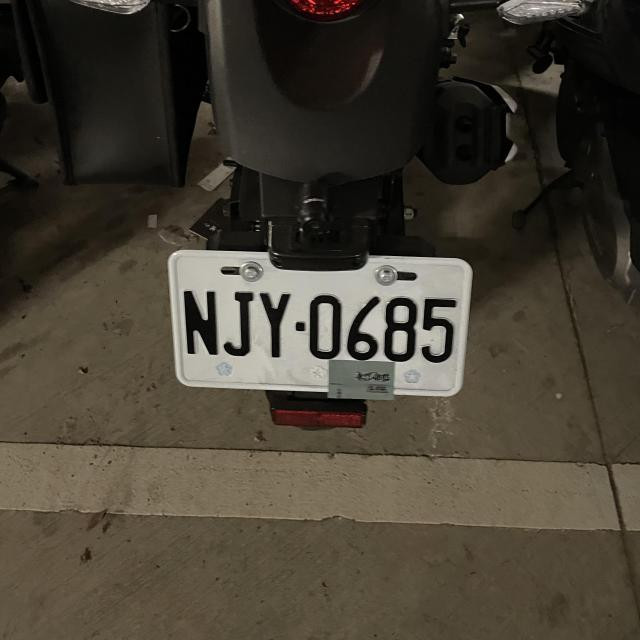W: (162, 246, 476, 396)
